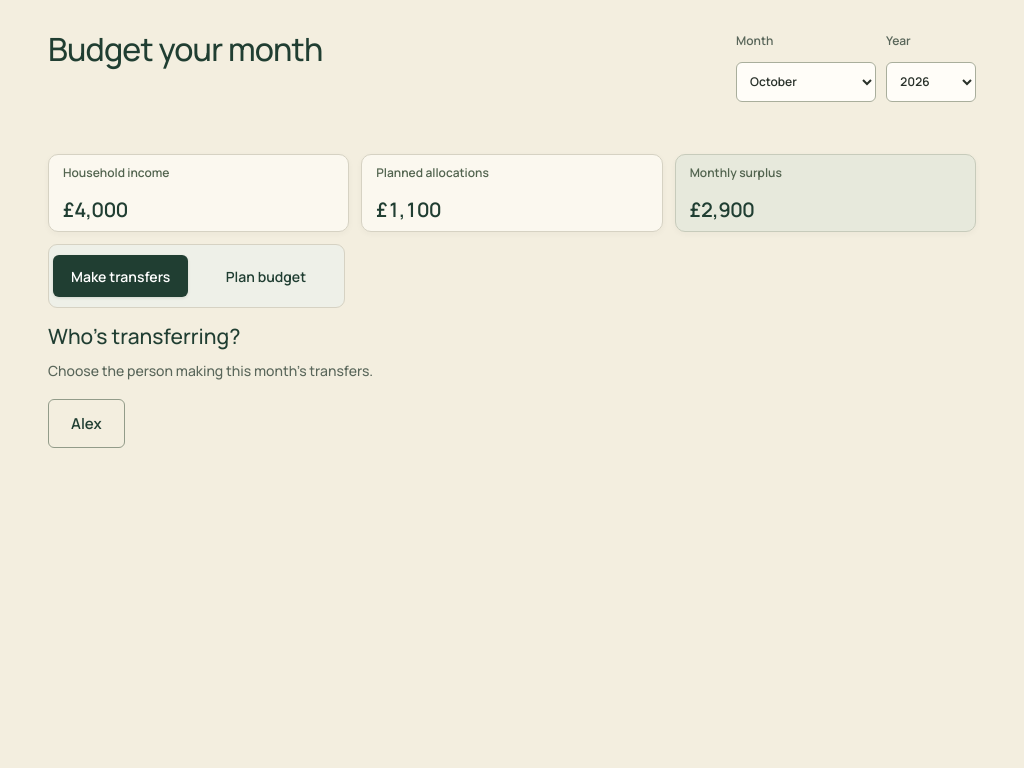
Scenario: uses the category overview to focus the table on one category at a time
Click the button "Plan budget" at (266,276), box [198,255,334,297]
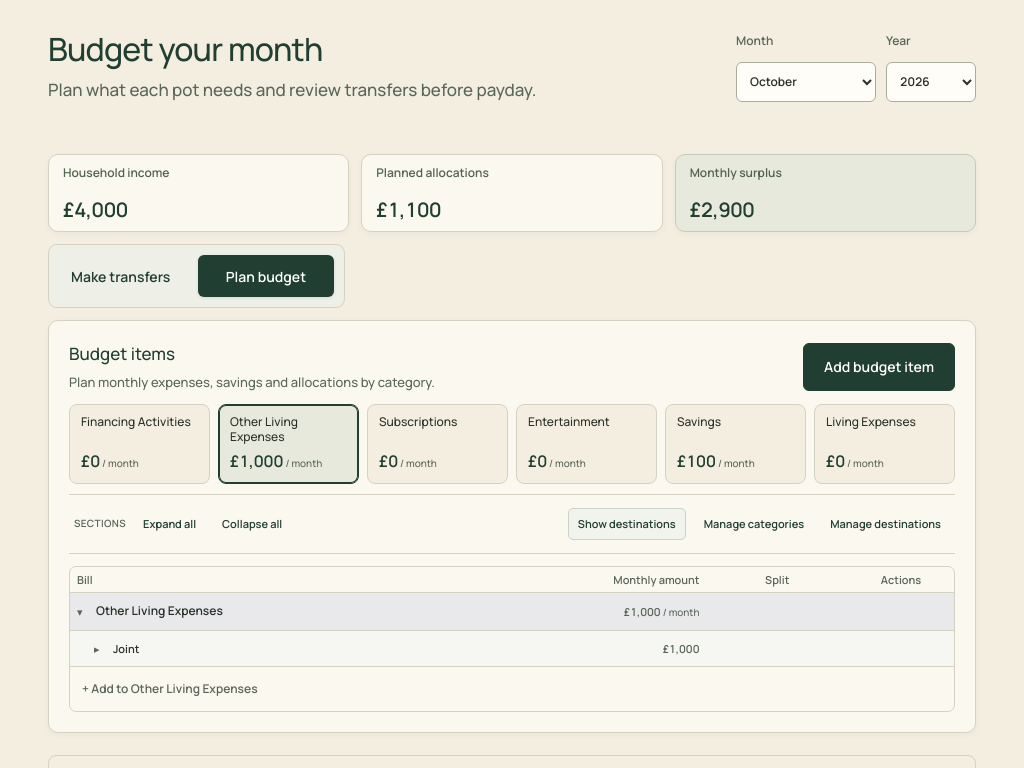
Click the button "Savings £100 / month" at (736,444), box [665,404,806,484]
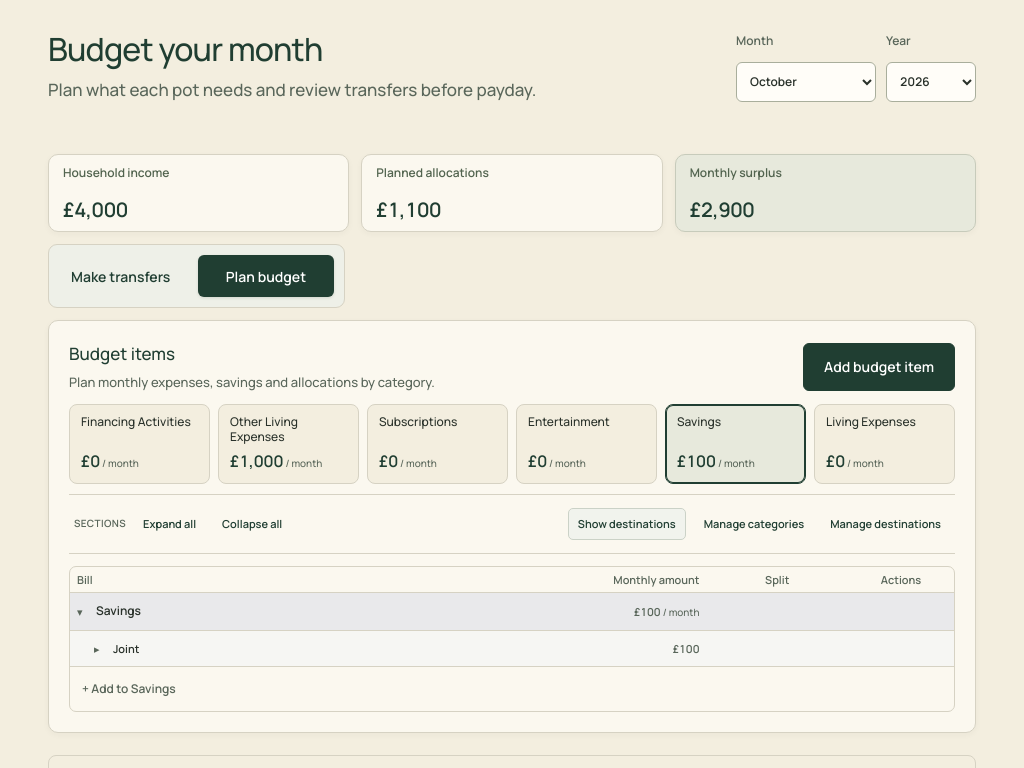
Result: the button with aria-label "Collapse Savings" is shown at [77,604,523,619]
Click the button with aria-label "Expand Joint" at (97,649), box [94,642,523,655]
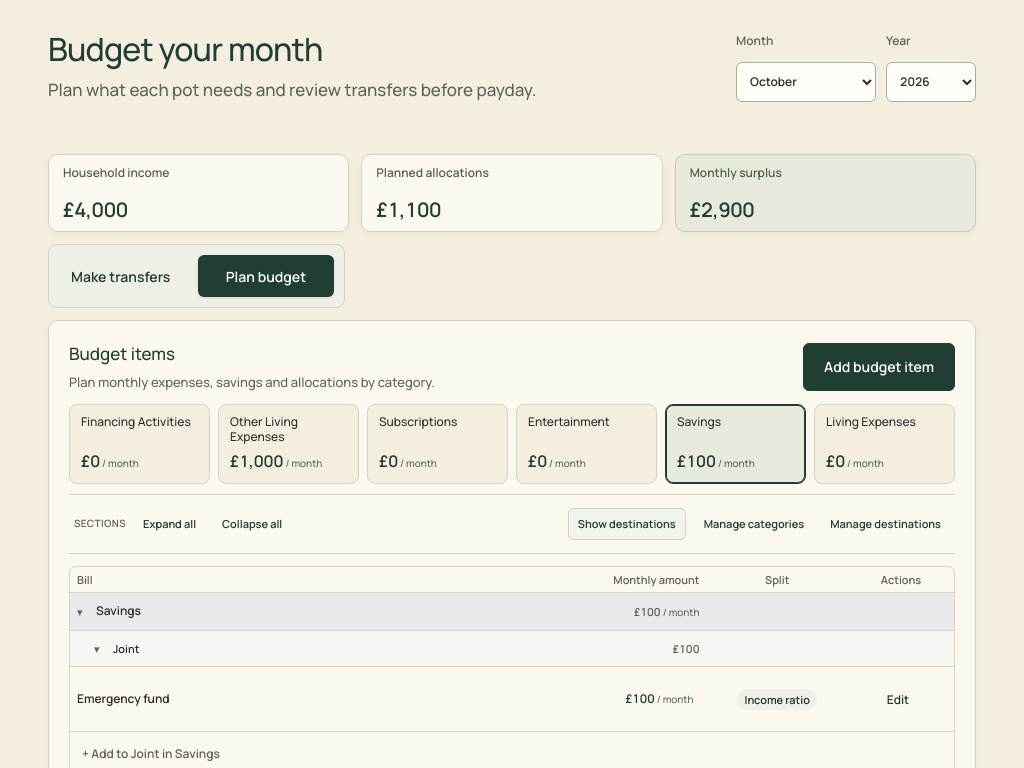
Result: the text "Emergency fund" is shown at [77,690,170,707]
Click the button "Other Living Expenses £1,000 / month" at (288,444), box [218,404,359,484]
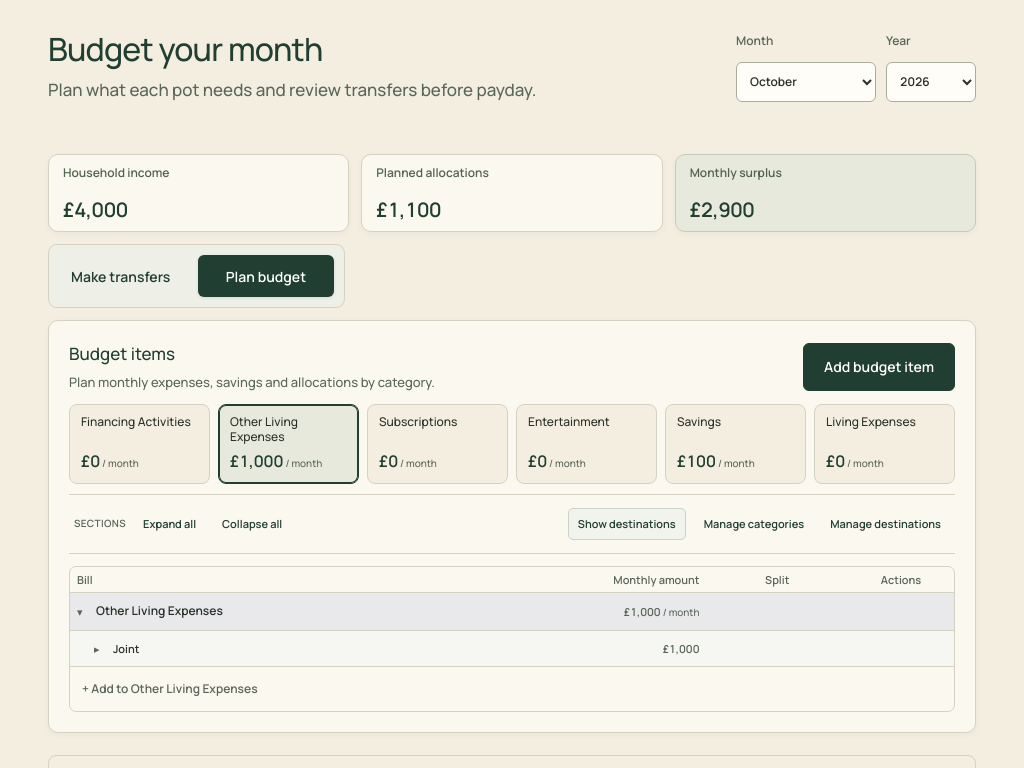
Result: the button with aria-label "Collapse Other Living Expenses" is shown at [77,604,523,619]
Result: the text "Emergency fund" is gone
Click the button with aria-label "Expand Joint" at (97,649), box [94,642,523,655]
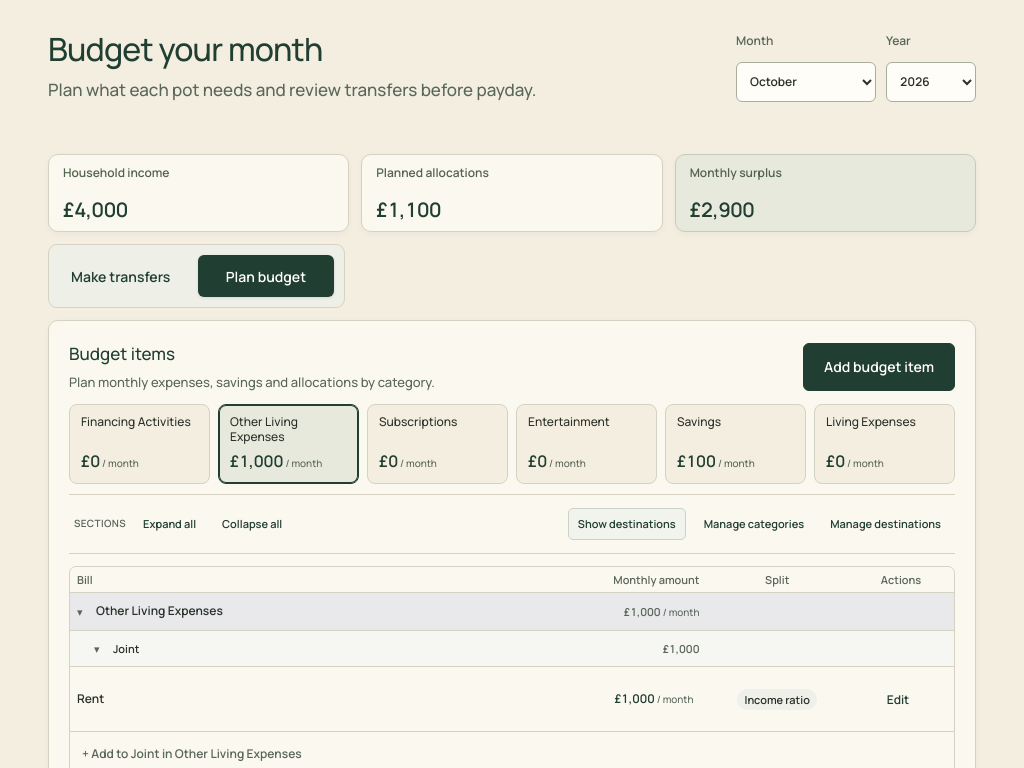
Result: the text "Rent" is shown at [77,690,104,707]
